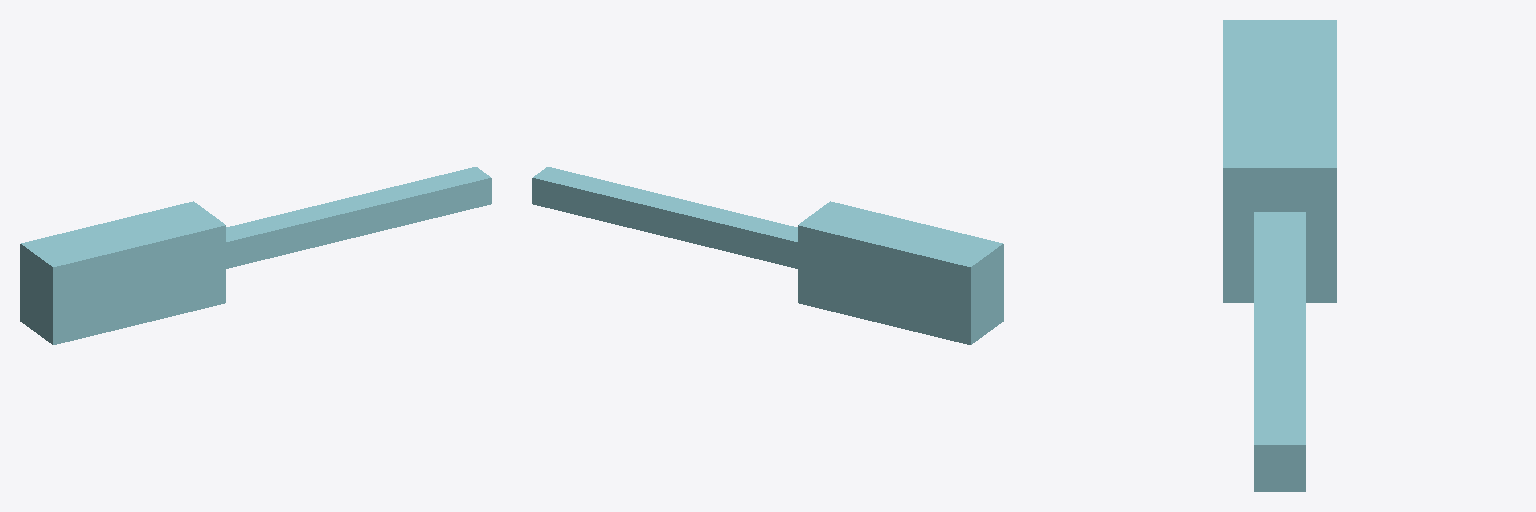
URDF robot description (cuboid_screwdriver_v2014):
<?xml version="1.0"?>
<robot name="cuboid_screwdriver_v2014">

  <link name="cuboid_screwdriver_v2014">
    <!-- Handle -->
    <visual>
      <origin xyz="0 0 0" rpy="0 0 0"/>
      <geometry>
        <box size="0.07873207354679264 0.02580072898940763 0.03386715724166457"/>
      </geometry>
      <material name="material">
        <color rgba="0.639 0.847 0.882 1.0"/>
      </material>
    </visual>
    <collision>
      <origin xyz="0 0 0" rpy="0 0 0"/>
      <geometry>
        <box size="0.07873207354679264 0.02580072898940763 0.03386715724166457"/>
      </geometry>
    </collision>

    <!-- Head -->
    <visual>
      <origin xyz="0.10159461784537657 0 0" rpy="0 0 0"/>
      <geometry>
        <box size="0.1244571621439605 0.01196815228416014 0.011589955484760247"/>
      </geometry>
      <material name="material">
        <color rgba="0.639 0.847 0.882 1.0"/>
      </material>
    </visual>
    <collision>
      <origin xyz="0.10159461784537657 0 0" rpy="0 0 0"/>
      <geometry>
        <box size="0.1244571621439605 0.01196815228416014 0.011589955484760247"/>
      </geometry>
    </collision>

    <inertial>
      <density value="400.0"/>
    </inertial>
  </link>

</robot>

--- Facts derived from the render (not from the file) ---
3 views of the same robot in one strip: view 1: azimuth 30°, elevation 25°; view 2: azimuth 150°, elevation 25°; view 3: azimuth 270°, elevation 25° (orthographic).
Model cuboid_screwdriver_v2014 with 1 links and 0 joints (none), rooted at cuboid_screwdriver_v2014, posed every joint at zero.
Visible links, largest first — view 1: cuboid_screwdriver_v2014; view 2: cuboid_screwdriver_v2014; view 3: cuboid_screwdriver_v2014.
Link boxes in pixels (left/top/right/bottom): cuboid_screwdriver_v2014: left=20, top=167, right=491, bottom=344; cuboid_screwdriver_v2014: left=532, top=167, right=1003, bottom=344; cuboid_screwdriver_v2014: left=1223, top=20, right=1336, bottom=491.
Bounding box of the posed robot: 0.2032 × 0.0258 × 0.0339 m (x, y, z).
Geometry: primitives only (box / cylinder / sphere), no mesh files.
